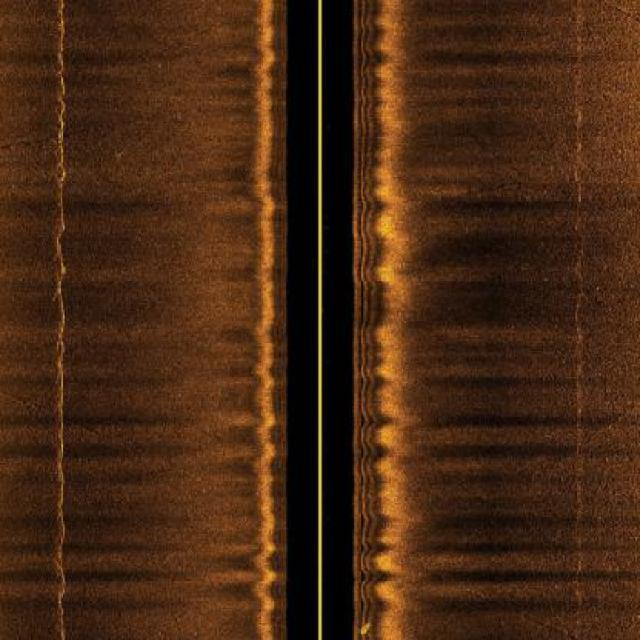other: (354, 617, 375, 638)
